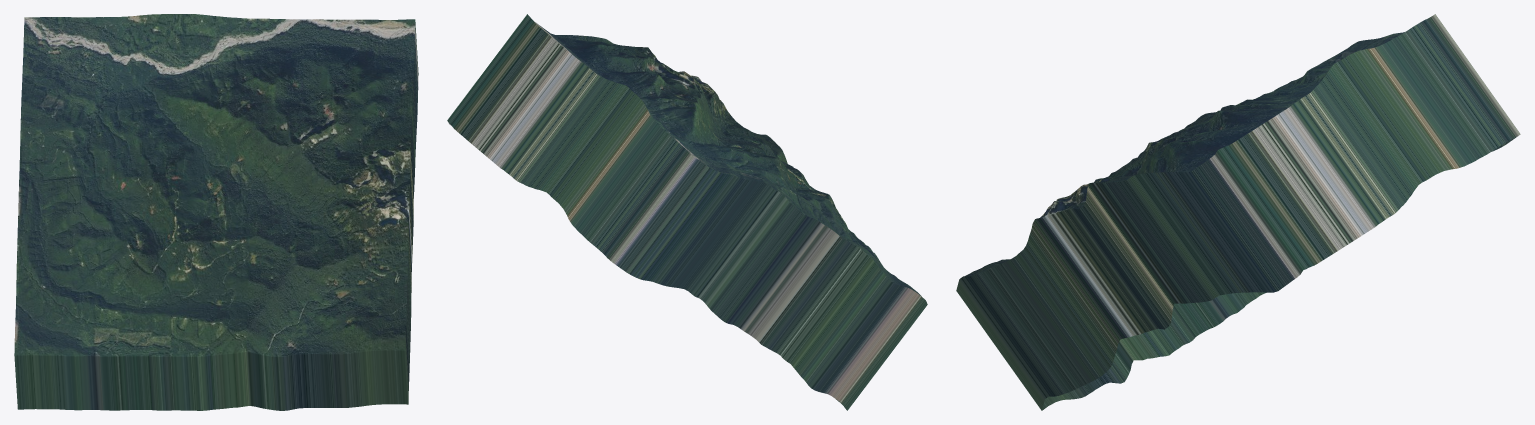
3 views of the same model, side by side, from view 1: azimuth 30°, elevation 25°; view 2: azimuth 150°, elevation 25°; view 3: azimuth 270°, elevation 25° (orthographic). The views are drawn at different scales.
Size of the model in its own units: 11100 by 7415 by 11477.
1 material, 1 textured.
